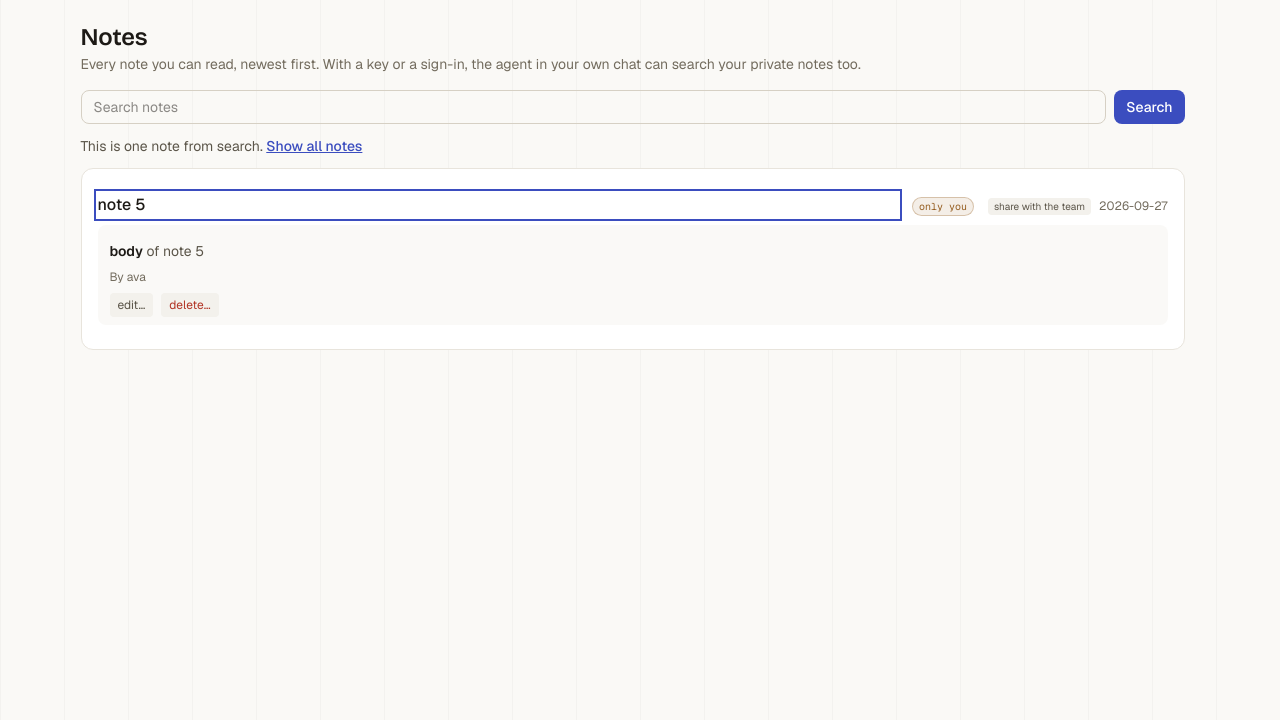
Test: the Notes page › opens the one note a search hit names, then goes back to the list
The width and height of the screenshot is (1280, 720).
Expected: the text "body" is shown, [110, 242, 143, 260]
Expected: the text "note 5" is shown, [98, 194, 145, 215]
Click the button "Show all notes". click: (314, 146)
box: [266, 136, 362, 156]
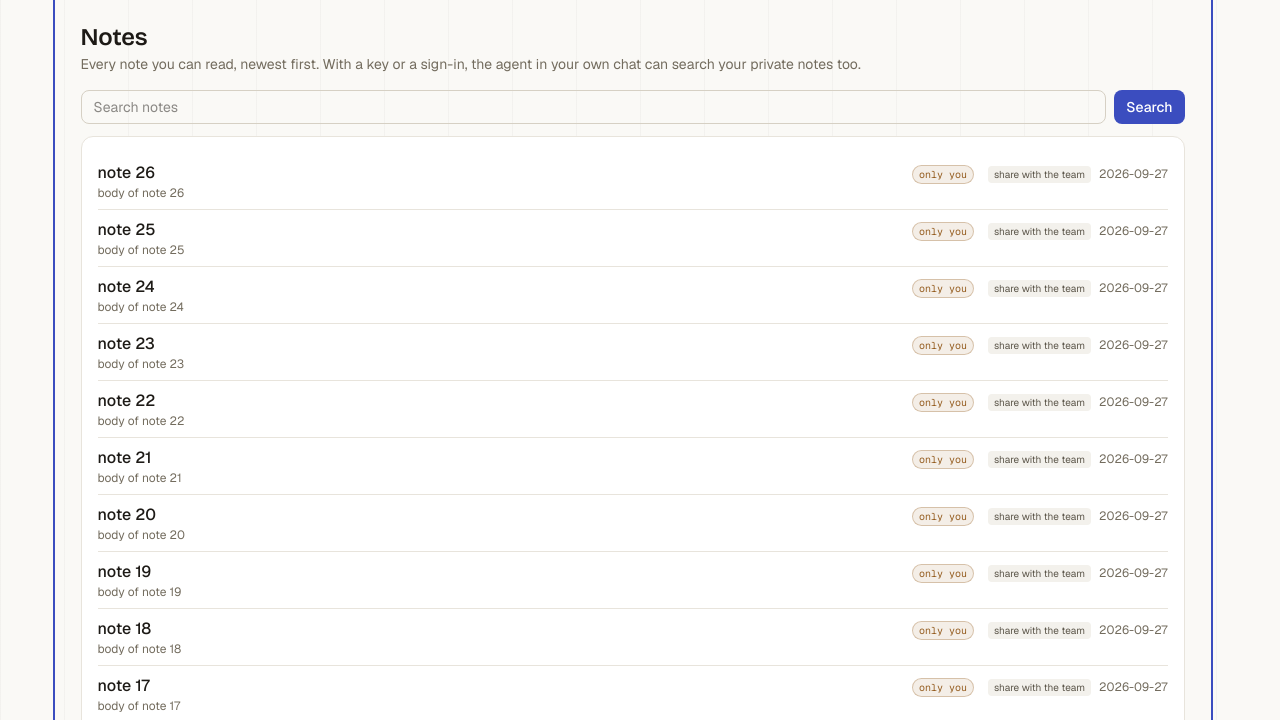
Expected: the text "note 26" is shown, [98, 162, 155, 183]
